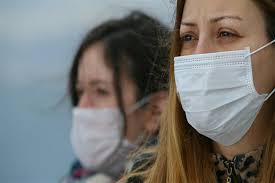mask: (173, 57, 256, 138), (70, 106, 119, 164)
